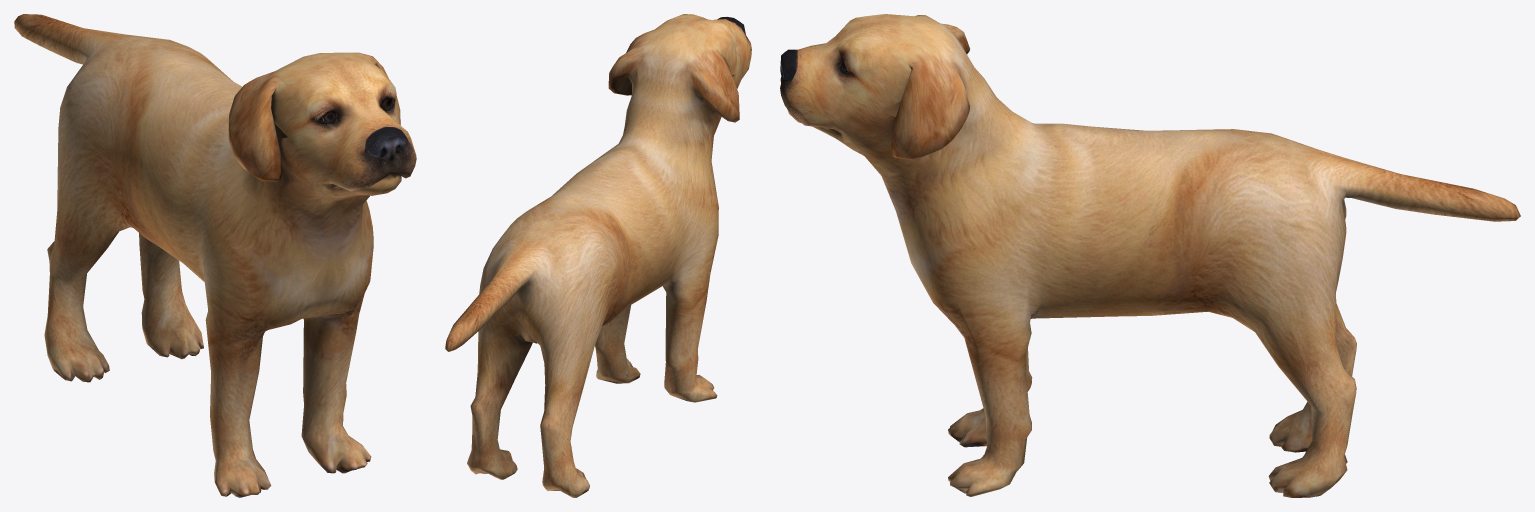
File: dog.glb
3 views of the same model, side by side, from view 1: azimuth 30°, elevation 25°; view 2: azimuth 150°, elevation 25°; view 3: azimuth 270°, elevation 25° (orthographic). The views are drawn at different scales.
Parts seen in each view (by area): view 1: 12228_Dog_v1_L2; view 2: 12228_Dog_v1_L2; view 3: 12228_Dog_v1_L2.
Part boxes in pixels (box(x1,y1,x2,y2)): 12228_Dog_v1_L2: box(14, 14, 416, 497); 12228_Dog_v1_L2: box(445, 14, 751, 497); 12228_Dog_v1_L2: box(780, 14, 1520, 497).
Bounding box in the file's own units: 0.5448 × 1.45 × 2.2.
Materials: 1 (1 with a texture image).
